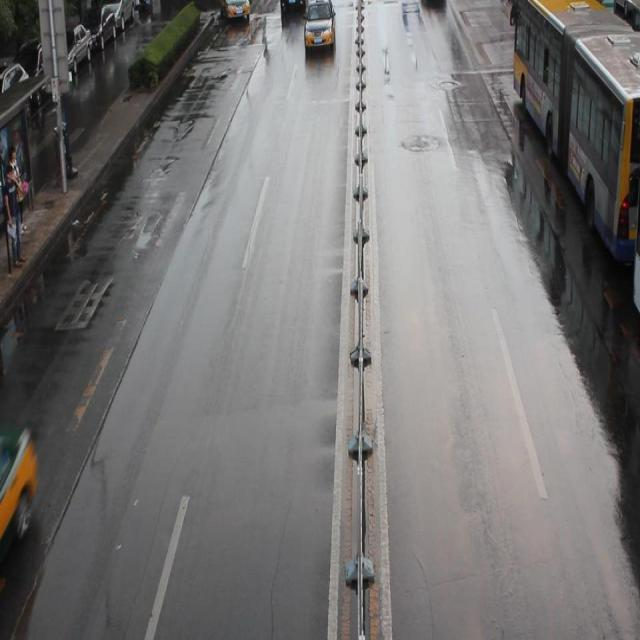car: (1, 424, 38, 564), (303, 1, 335, 52), (222, 1, 251, 25)
truck: (279, 1, 306, 20)
van: (512, 1, 640, 264), (630, 196, 640, 315)
